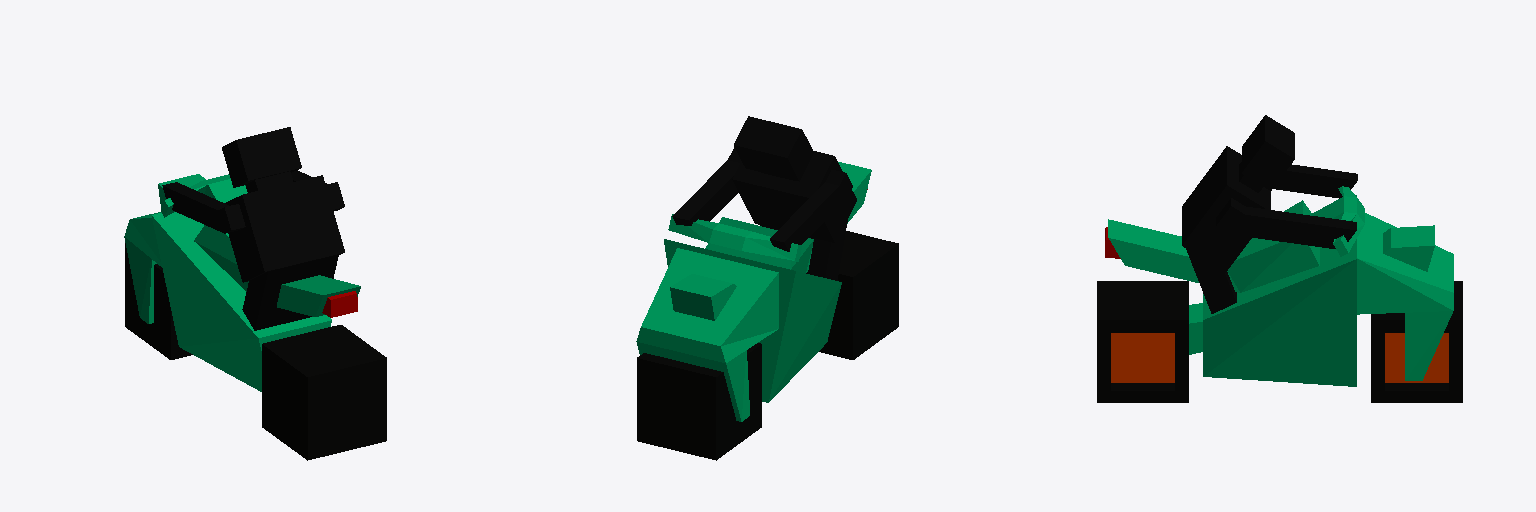
The model's file is car2.obj.
3 renders of one model, left to right at view 1: azimuth 30°, elevation 25°; view 2: azimuth 150°, elevation 25°; view 3: azimuth 270°, elevation 25°, orthographic.
Parts seen in each view (by area): view 1: Cube.002, Cube.003, Cube.001, Cube_Cube.001; view 2: Cube.002, Cube.003, Cube_Cube.001, Cube.001; view 3: Cube.002, Cube.003, Cube.001, Cube_Cube.001.
Part boxes in pixels (x1,y1,x2,y2): Cube.002: (124, 174, 360, 391); Cube.003: (162, 127, 344, 330); Cube.001: (262, 325, 386, 460); Cube_Cube.001: (125, 243, 192, 359); Cube.002: (636, 162, 871, 421); Cube.003: (672, 116, 856, 280); Cube_Cube.001: (637, 343, 761, 460); Cube.001: (819, 231, 898, 359); Cube.002: (1105, 186, 1453, 386); Cube.003: (1182, 115, 1357, 313); Cube.001: (1097, 281, 1188, 402); Cube_Cube.001: (1371, 281, 1462, 402).
Size of the model in its own units: 1 by 1.85 by 2.39.